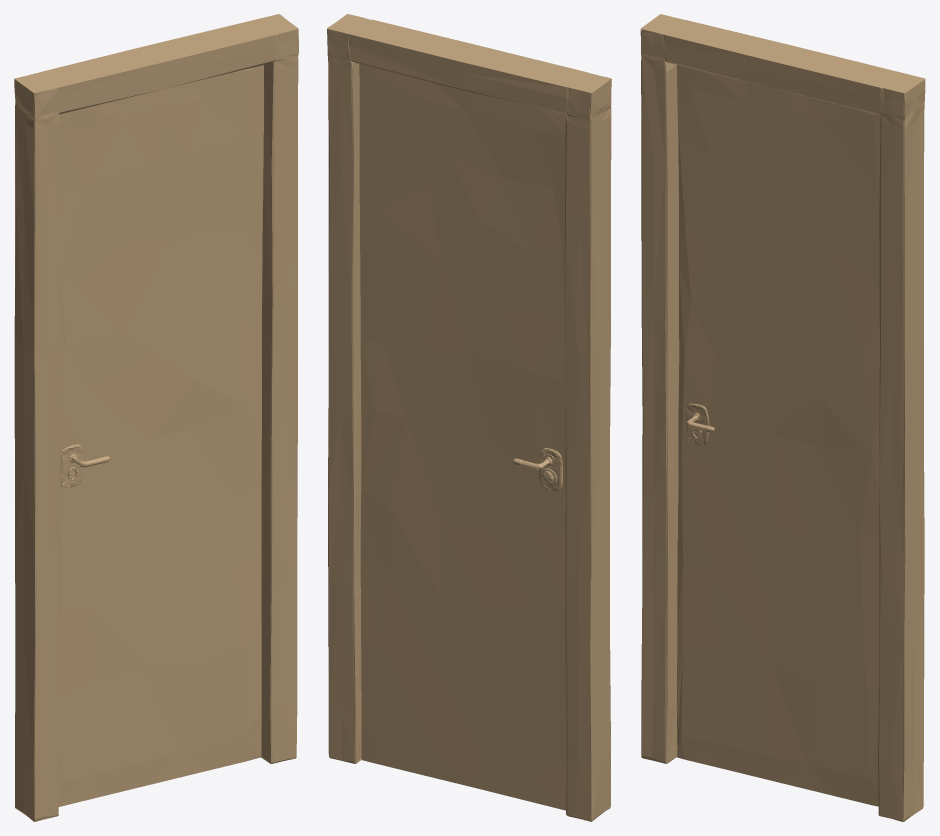
File: gen-door-single-1.glb
3 renders of one model, left to right at view 1: azimuth 30°, elevation 25°; view 2: azimuth 150°, elevation 25°; view 3: azimuth 330°, elevation 25°, orthographic.
Parts seen in each view (by area): view 1: gen-door-single-1_part1; view 2: gen-door-single-1_part1; view 3: gen-door-single-1_part1.
Part boxes in pixels (<box>): gen-door-single-1_part1: <box>14,14,298,821</box>; gen-door-single-1_part1: <box>327,14,611,821</box>; gen-door-single-1_part1: <box>640,14,925,821</box>.
Bounding box in the file's own units: 819 × 2150 × 149.
